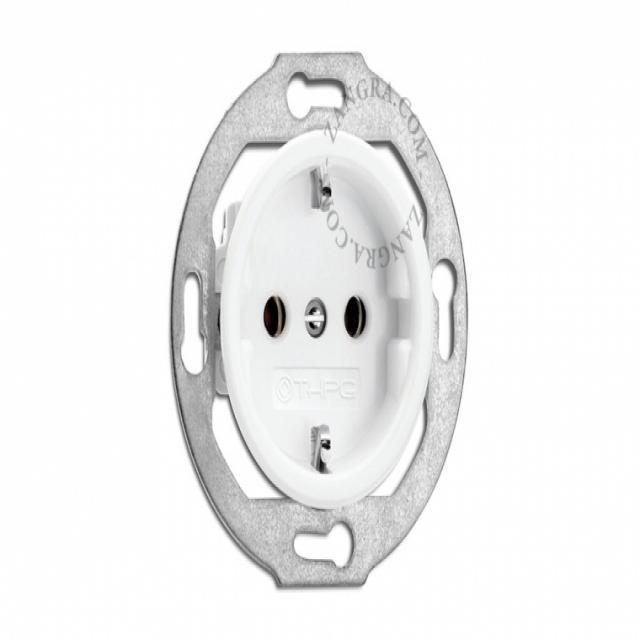typeb: (203, 124, 431, 558)
